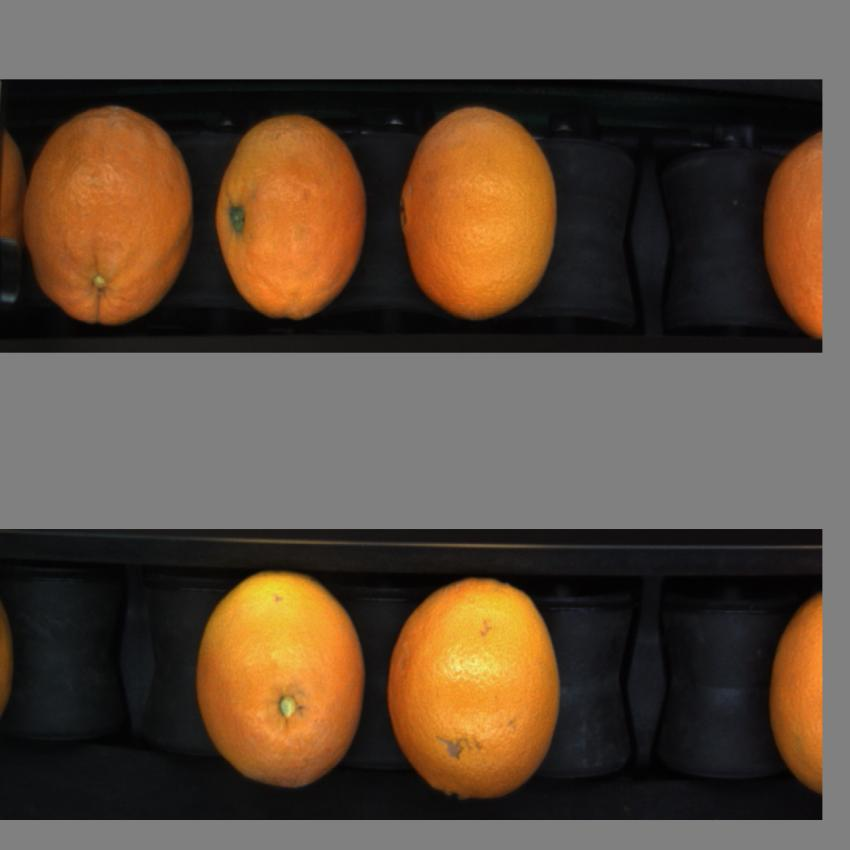Buen estado: (385, 572, 564, 802), (190, 564, 360, 792), (398, 101, 565, 321), (208, 110, 369, 326), (760, 130, 822, 342), (768, 582, 822, 801)
Mal estado: (23, 103, 198, 324)
